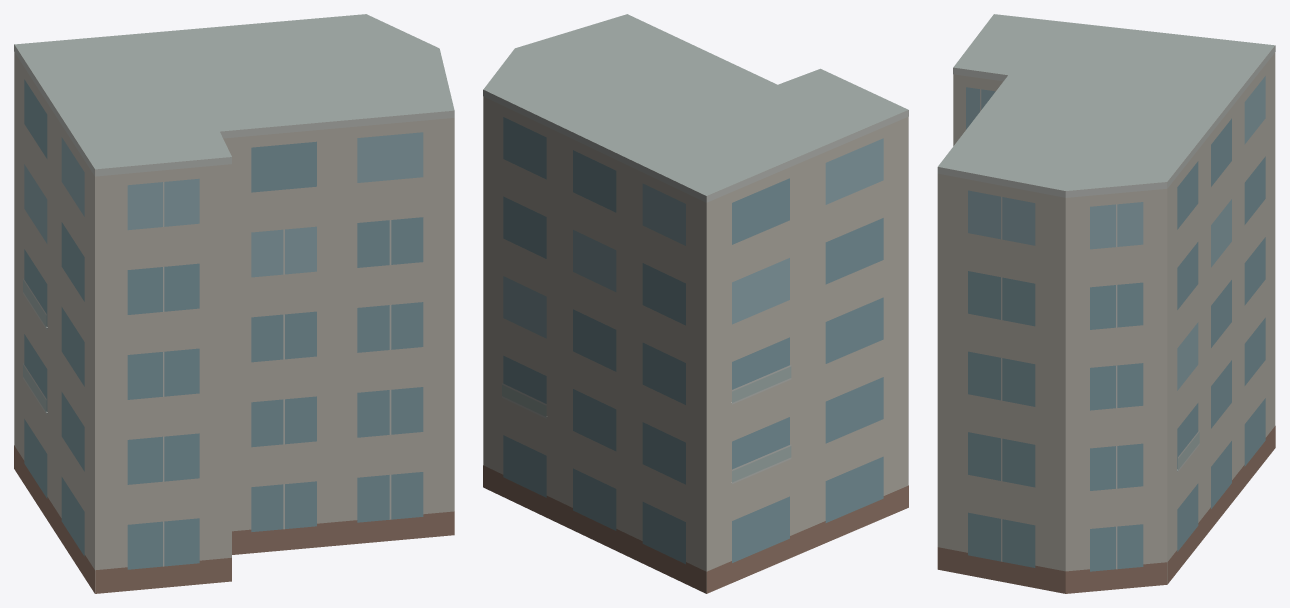
The model's file is survey-upis-32880069.glb.
3 views of the same model, side by side, from view 1: azimuth 30°, elevation 25°; view 2: azimuth 150°, elevation 25°; view 3: azimuth 270°, elevation 25° (orthographic). The views are drawn at different scales.
Visible parts, largest first — view 1: survey-upis-32880069.tmp; view 2: survey-upis-32880069.tmp; view 3: survey-upis-32880069.tmp.
Part boxes in pixels (box(x1,y1,x2,y2)): survey-upis-32880069.tmp: box(14, 14, 454, 593); survey-upis-32880069.tmp: box(483, 14, 908, 593); survey-upis-32880069.tmp: box(937, 14, 1275, 593).
Bounding box in the file's own units: 13.59 × 14.4 × 10.95.
